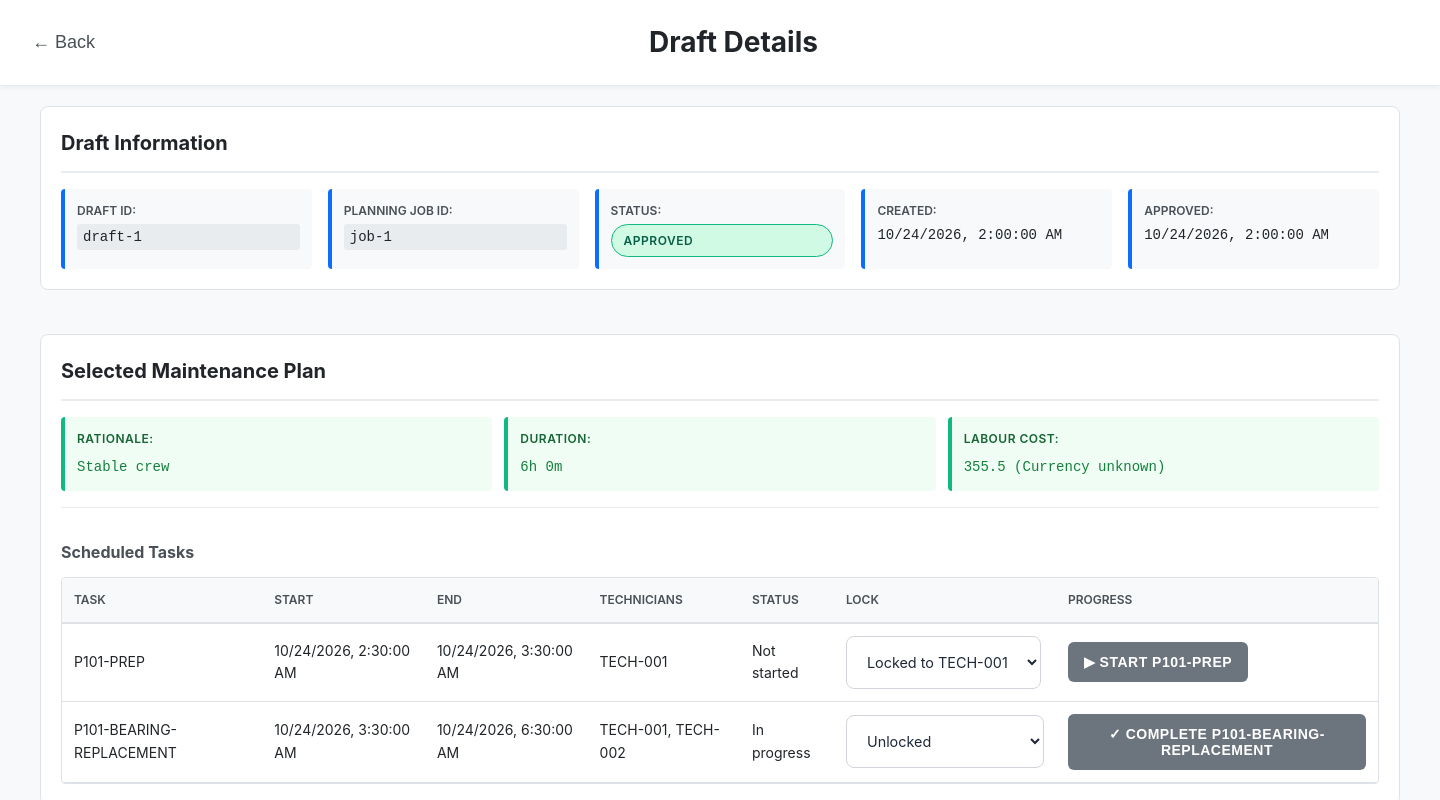
Scenario: DraftDetailScreen draft management › shows who performed each recorded action and reloads the history after an action
The image size is (1440, 800).
Click the button "▶ Start P101-PREP": (1158, 662) [1068, 642, 1248, 682]
(page scrolled)
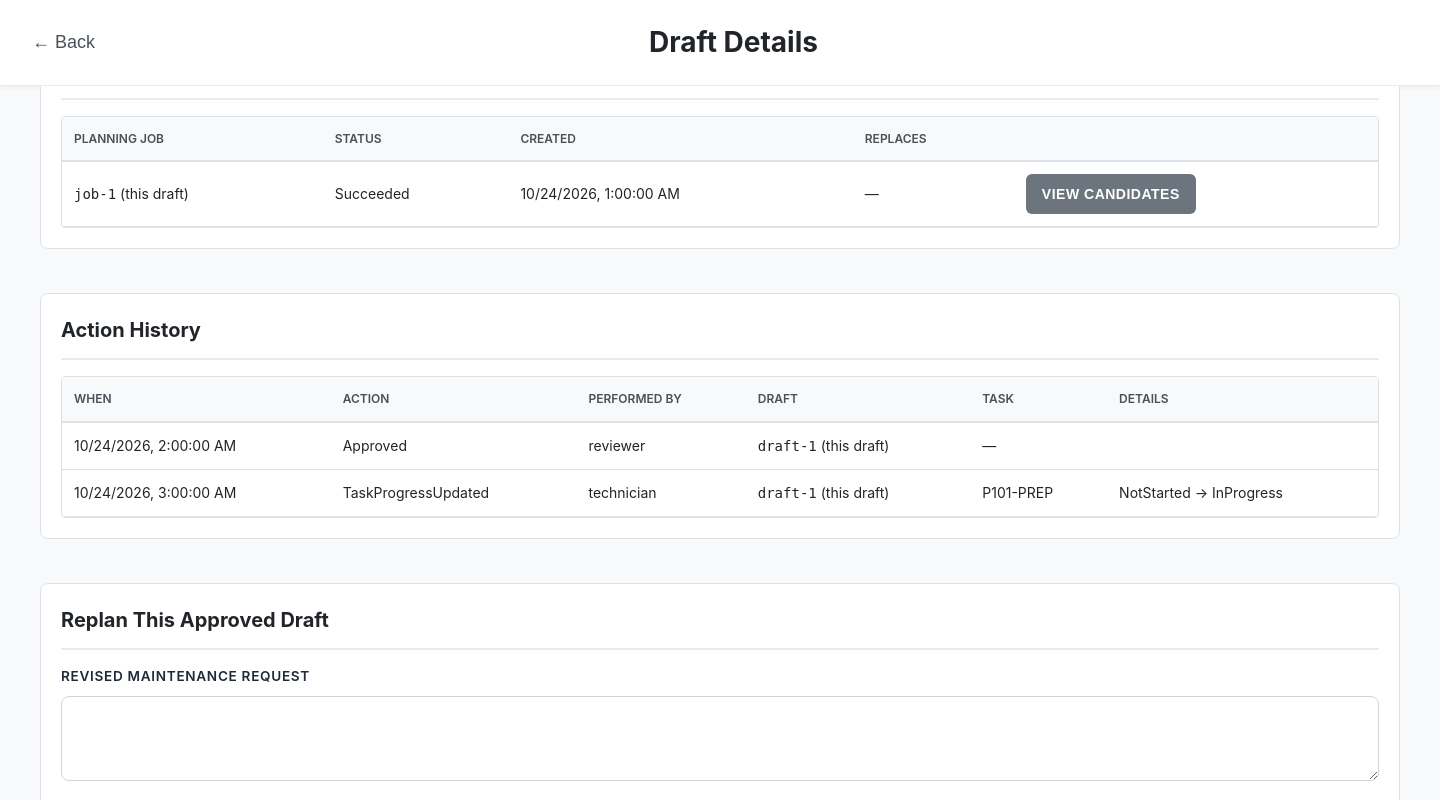
Result: the table with test id "action-history" shows "technician" at [588, 484, 657, 501]
Result: the table with test id "action-history" shows "NotStarted -> InProgress" at [1119, 484, 1283, 501]
